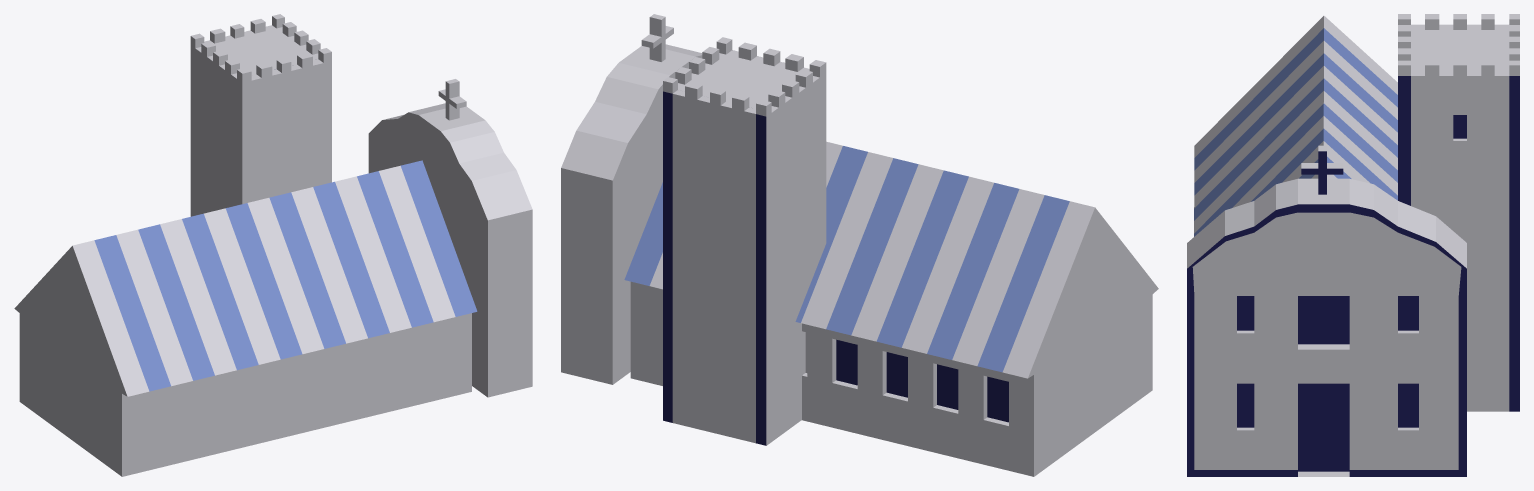
File: Village_church.gltf
3 renders of one model, left to right at view 1: azimuth 30°, elevation 25°; view 2: azimuth 150°, elevation 25°; view 3: azimuth 270°, elevation 25°, orthographic. The views are drawn at different scales.
Visible parts, largest first — view 1: Cube.006, Cube.007, Cube; view 2: Cube.006, Cube.007, Cube; view 3: Cube, Cube.007, Cube.006.
Boxes of the visible parts, x1,y1,x2,y2 form: Cube.006: (14,160,477,476); Cube.007: (190,14,331,216); Cube: (368,79,532,397); Cube.006: (624,141,1158,476); Cube.007: (663,37,826,445); Cube: (561,14,702,384); Cube: (1187,145,1466,476); Cube.007: (1398,14,1519,411); Cube.006: (1194,16,1397,236).
Size of the model in its own units: 8.96 by 6.31 by 5.47.
